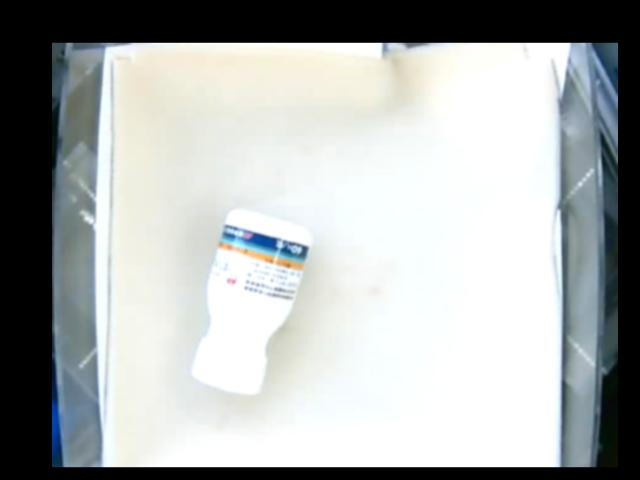Bottle: (192, 210, 310, 392)
